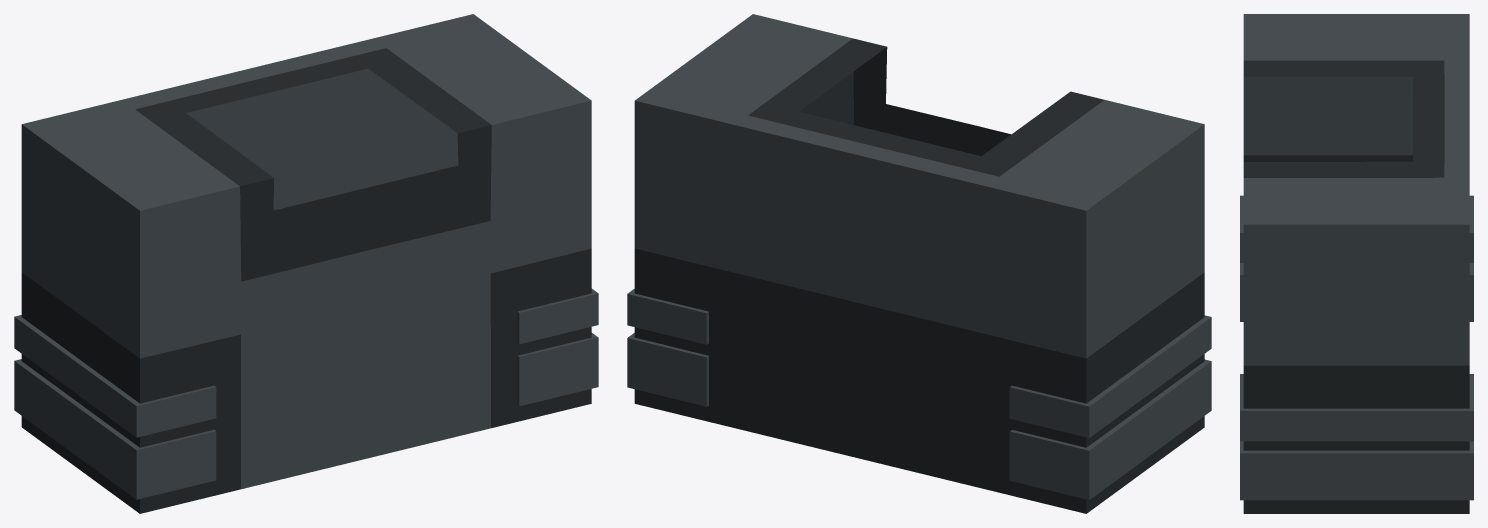
File: Armor 05.FBX
3 views of the same model, side by side, from view 1: azimuth 30°, elevation 25°; view 2: azimuth 150°, elevation 25°; view 3: azimuth 270°, elevation 25° (orthographic). The views are drawn at different scales.
Visible parts, largest first — view 1: Armor 05; view 2: Armor 05; view 3: Armor 05.
Part boxes in pixels (left/top/right/bottom): Armor 05: left=14, top=14, right=598, bottom=513; Armor 05: left=627, top=14, right=1211, bottom=513; Armor 05: left=1240, top=14, right=1473, bottom=513.
Size of the model in its own units: 49.55 by 31.05 by 22.72.
Materials: 1 (1 with a texture image).
